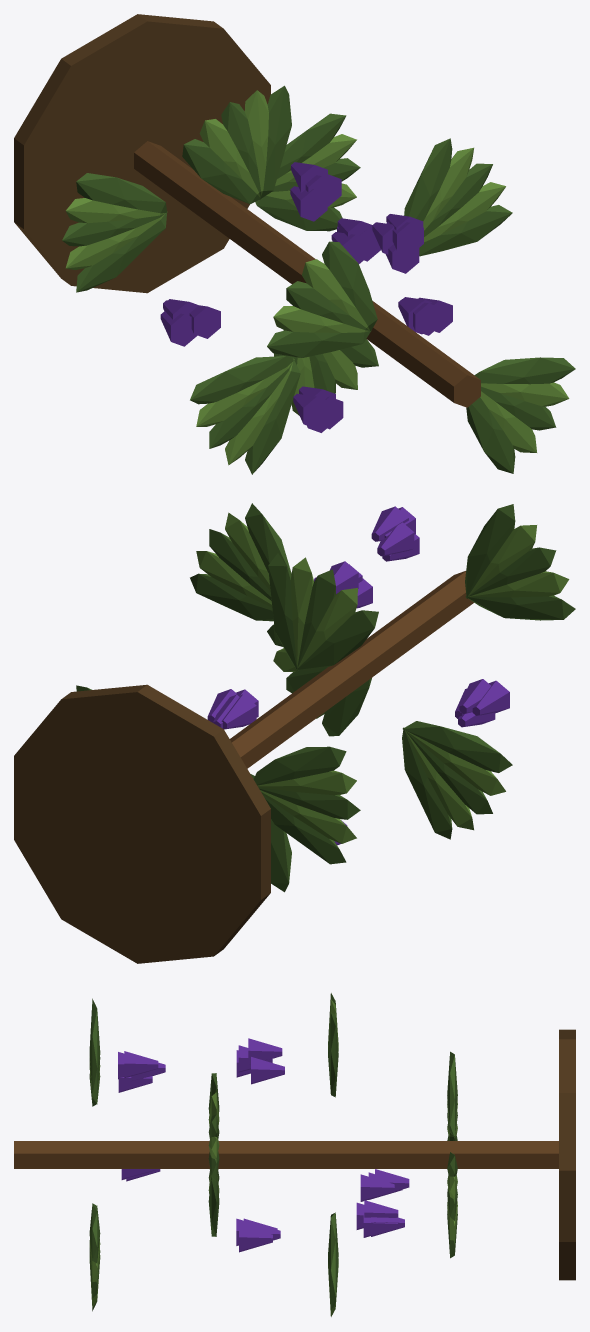
Rendered from 4_mature.obj.
3 renders of one model, top to bottom at view 1: azimuth 30°, elevation 25°; view 2: azimuth 150°, elevation 25°; view 3: azimuth 270°, elevation 25°, orthographic. The views are drawn at different scales.
Parts seen in each view (by area): view 1: krandorian_4_mature; view 2: krandorian_4_mature; view 3: krandorian_4_mature.
Part boxes in pixels (x1=…): krandorian_4_mature: x1=14, y1=14, x2=575, y2=474; krandorian_4_mature: x1=14, y1=503, x2=575, y2=963; krandorian_4_mature: x1=14, y1=993, x2=575, y2=1316.
Bounding box in the file's own units: 0.3733 × 0.378 × 0.66.
